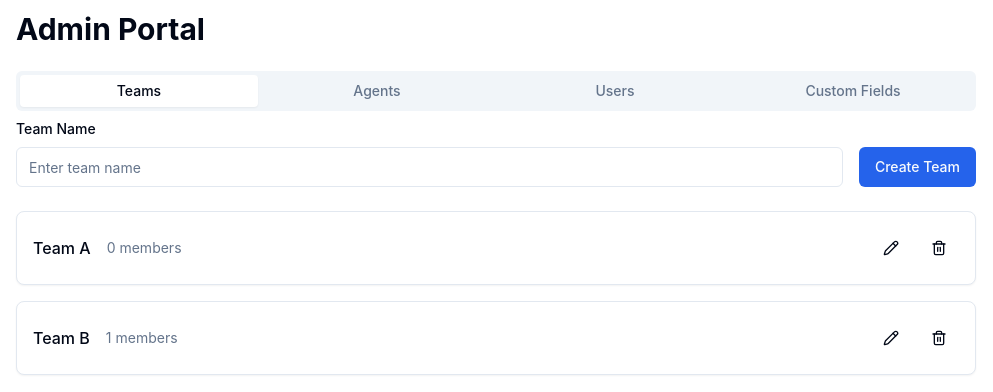
it: AdminPortal › allows deleting a team with confirmation
Click the button titled "Delete team" in the row of "Team A".
click(939, 248)  # box left=919, top=228, right=959, bottom=268
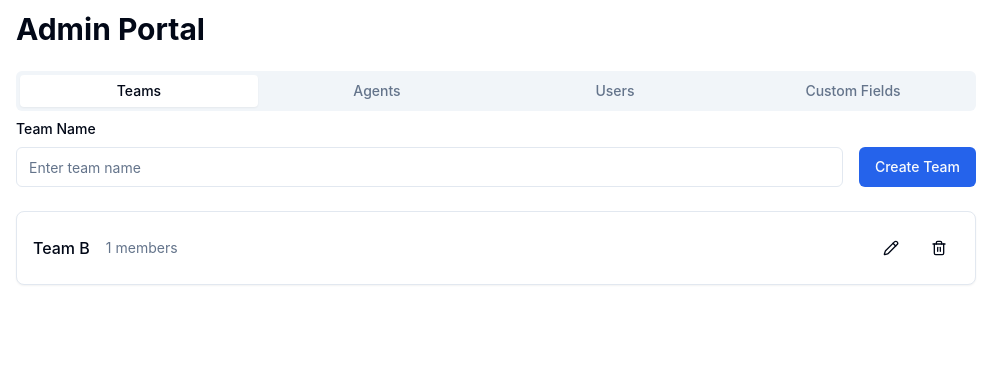
Now the heading "Team A" is gone
